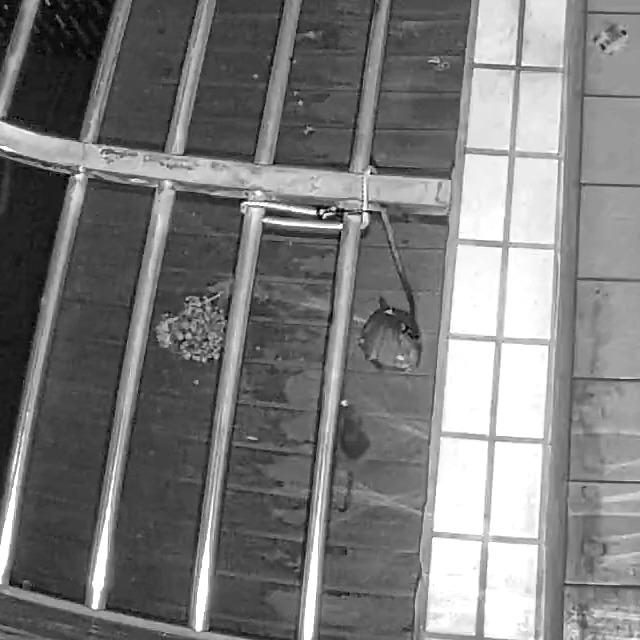rat: (335, 394, 371, 514)
